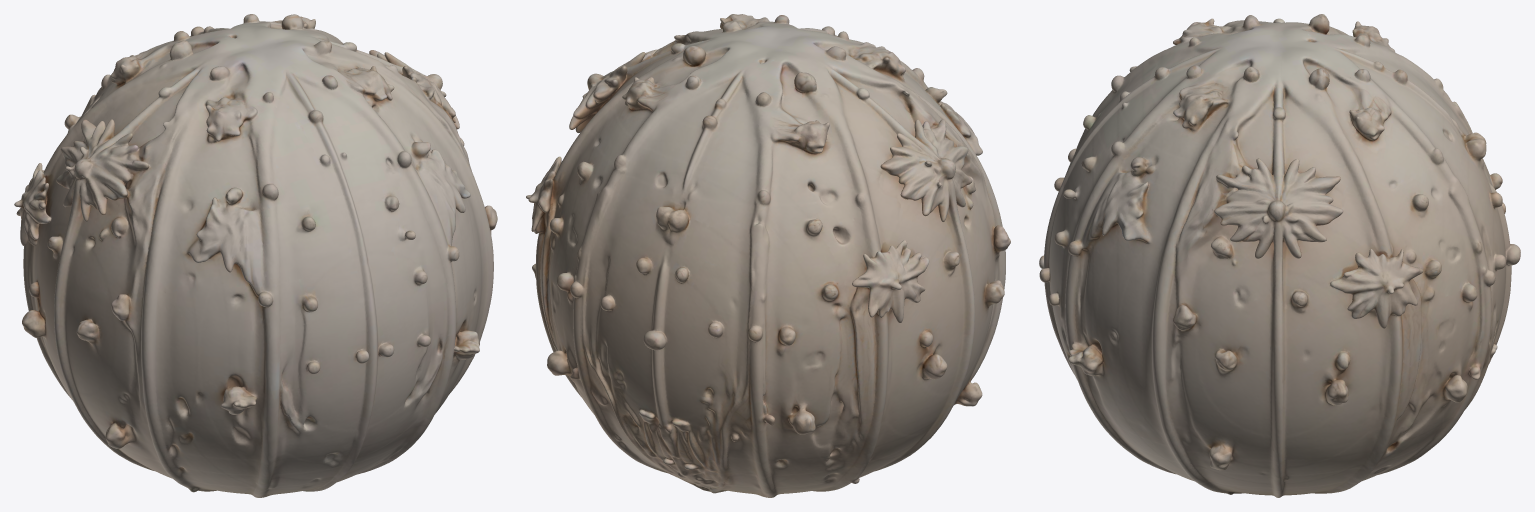
Rendered from detailed_realistic_model_solid_06.glb.
The picture shows the model from 3 angles, left to right: view 1: azimuth 30°, elevation 25°; view 2: azimuth 150°, elevation 25°; view 3: azimuth 270°, elevation 25°; orthographic projection.
Parts seen in each view (by area): view 1: tripo_node_8519a44b-5fc5-4740-856a-1721ce004dbd; view 2: tripo_node_8519a44b-5fc5-4740-856a-1721ce004dbd; view 3: tripo_node_8519a44b-5fc5-4740-856a-1721ce004dbd.
Part boxes in pixels (bbox=[...]): tripo_node_8519a44b-5fc5-4740-856a-1721ce004dbd: bbox=[14, 14, 497, 497]; tripo_node_8519a44b-5fc5-4740-856a-1721ce004dbd: bbox=[526, 14, 1010, 497]; tripo_node_8519a44b-5fc5-4740-856a-1721ce004dbd: bbox=[1039, 14, 1520, 497].
Size of the model in its own units: 0.9975 by 0.9751 by 1.
1 material, 1 textured.
